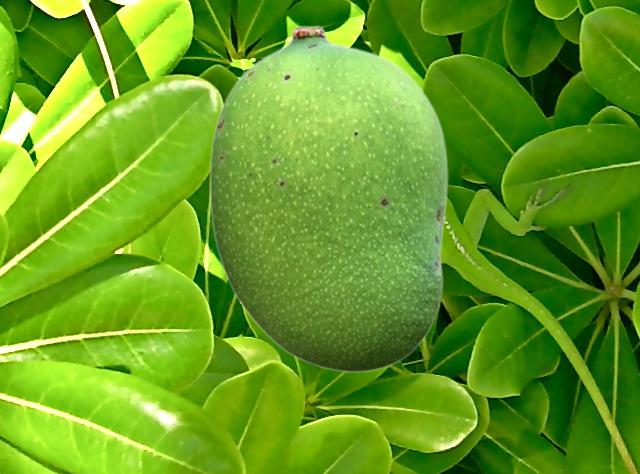green_mango: (208, 24, 447, 372)
